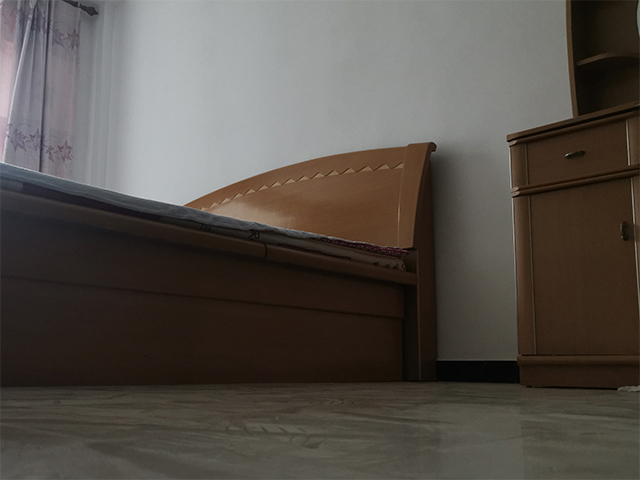bed: (1, 140, 438, 389)
cabinet: (502, 108, 640, 390)
